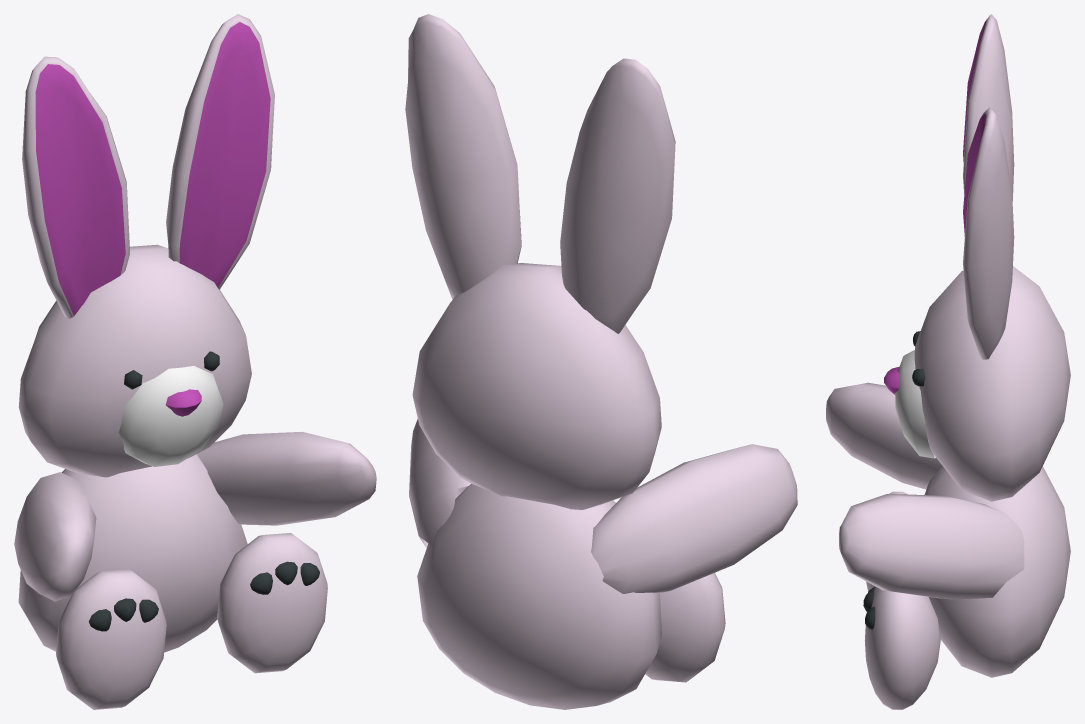
Rendered from ToyRabbit01.FBX.
The picture shows the model from 3 angles, left to right: view 1: azimuth 30°, elevation 25°; view 2: azimuth 150°, elevation 25°; view 3: azimuth 270°, elevation 25°; orthographic projection. The views are drawn at different scales.
Parts seen in each view (by area): view 1: ToyRabbit01; view 2: ToyRabbit01; view 3: ToyRabbit01.
Part boxes in pixels (bbox=[...]): ToyRabbit01: bbox=[14, 14, 376, 709]; ToyRabbit01: bbox=[405, 14, 797, 709]; ToyRabbit01: bbox=[826, 14, 1070, 709].
Size of the model in its own units: 18.23 by 11.8 by 32.27.
